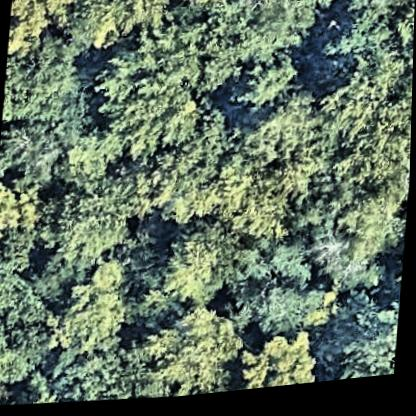tree-top: (88, 44, 200, 167), (142, 298, 243, 401), (225, 238, 316, 350), (0, 30, 82, 142), (46, 255, 135, 354), (226, 162, 315, 253), (46, 336, 151, 409), (54, 172, 133, 269), (332, 75, 413, 167), (0, 266, 57, 390), (336, 177, 408, 275), (158, 220, 228, 313), (232, 326, 323, 396), (239, 97, 321, 174), (329, 302, 400, 388), (167, 105, 233, 194), (240, 0, 320, 67), (82, 0, 176, 49), (60, 123, 125, 189), (234, 57, 301, 120), (358, 17, 415, 90), (0, 117, 63, 182), (0, 173, 41, 236), (333, 0, 416, 31), (6, 0, 41, 59), (0, 232, 37, 275), (43, 0, 78, 33), (171, 0, 237, 12)
